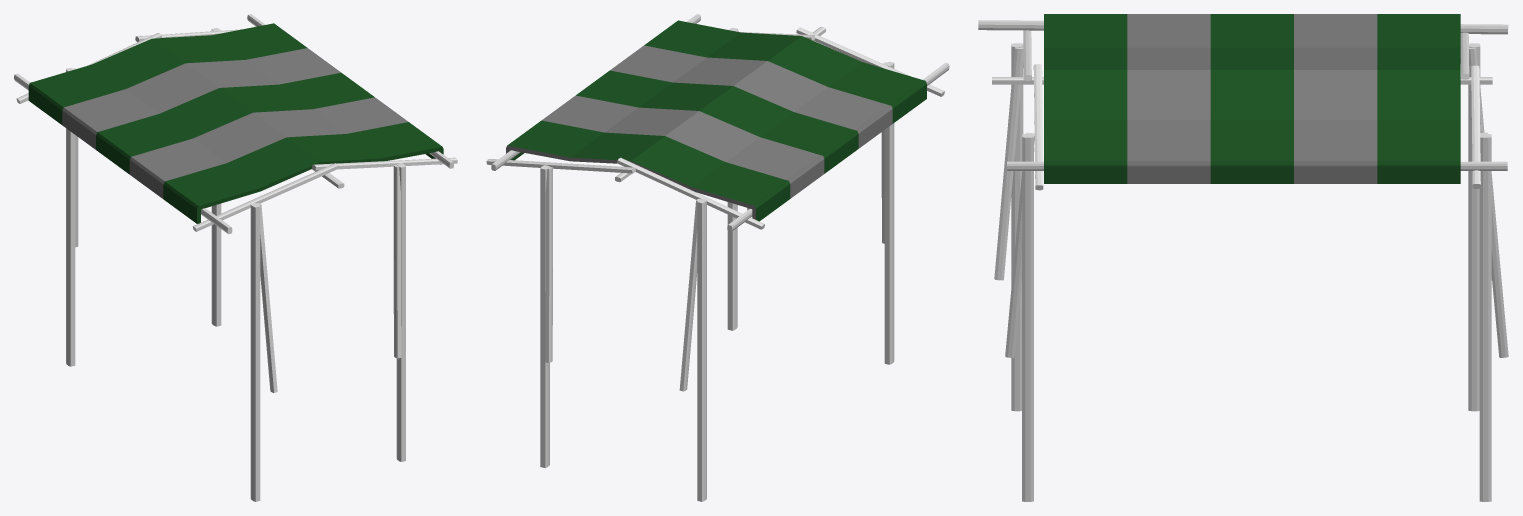
File: MarketStall02.fbx
The picture shows the model from 3 angles, left to right: view 1: azimuth 30°, elevation 25°; view 2: azimuth 150°, elevation 25°; view 3: azimuth 270°, elevation 25°; orthographic projection. The views are drawn at different scales.
Visible parts, largest first — view 1: Box026, Box029, Box035, Box037, Box038, Box030, Box039, Box034, Box033; view 2: Box026, Box035, Box029, Box039, Box040, Box036, Box037, Box025, Box024, Box034; view 3: Box026, Box039, Box037, Box035, Box029, Box030, Box038, Box040, Box018, Box033, Box024, Box011.
Part boxes in pixels (<box>): Box026: <box>28,23,443,223</box>; Box029: <box>250,203,260,501</box>; Box035: <box>66,67,75,366</box>; Box037: <box>396,163,405,461</box>; Box038: <box>393,164,401,358</box>; Box030: <box>257,202,277,392</box>; Box039: <box>211,27,221,326</box>; Box034: <box>192,163,338,231</box>; Box033: <box>312,157,457,170</box>; Box026: <box>506,20,926,221</box>; Box035: <box>697,198,706,501</box>; Box029: <box>884,61,894,364</box>; Box039: <box>540,165,549,467</box>; Box040: <box>545,167,552,362</box>; Box036: <box>679,198,700,391</box>; Box037: <box>727,27,737,330</box>; Box025: <box>617,157,764,229</box>; Box024: <box>486,159,635,173</box>; Box034: <box>796,27,944,96</box>; Box026: <box>1044,14,1460,183</box>; Box039: <box>1479,134,1491,501</box>; Box037: <box>1022,134,1033,501</box>; Box035: <box>1468,43,1480,411</box>; Box029: <box>1011,43,1023,411</box>; Box030: <box>994,47,1023,280</box>; Box038: <box>1005,132,1034,357</box>; Box040: <box>1480,132,1508,357</box>; Box018: <box>978,20,1508,34</box>; Box033: <box>1033,64,1043,190</box>; Box024: <box>1471,65,1480,188</box>; Box011: <box>1007,161,1507,170</box>.
Size of the model in its own units: 218 by 243 by 302.
